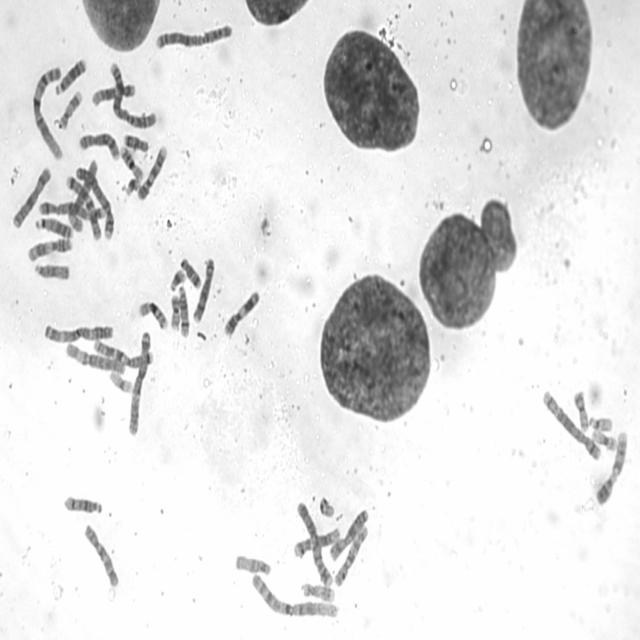A1: (249, 569, 340, 621), (29, 60, 65, 162)
A2: (108, 57, 158, 130), (152, 17, 235, 51)
A3: (126, 327, 153, 437), (42, 318, 115, 345)
B4: (295, 496, 335, 590), (72, 161, 116, 242)
B5: (540, 384, 602, 462), (35, 196, 107, 231)
C10: (82, 519, 120, 589), (332, 521, 370, 588)
C11: (222, 285, 261, 339), (25, 233, 75, 263)
C12: (291, 523, 341, 559), (90, 78, 137, 108)
C6: (68, 157, 100, 236), (63, 338, 127, 375)
C7: (67, 162, 103, 238), (91, 334, 155, 369)
C8: (190, 253, 216, 324), (76, 128, 122, 161)
C9: (593, 426, 629, 506), (135, 140, 169, 202)
D13: (52, 52, 88, 96), (34, 212, 74, 240)
D14: (61, 490, 104, 516), (176, 280, 191, 338)
D15: (233, 550, 272, 577), (32, 258, 71, 281)
E16: (136, 296, 170, 331), (118, 142, 144, 182)
E17: (56, 86, 84, 130), (298, 578, 336, 603)
E18: (178, 252, 203, 290), (122, 130, 150, 152)
F19: (589, 425, 618, 451), (107, 367, 134, 394)
F20: (571, 385, 591, 432), (168, 290, 181, 332)
G21: (168, 264, 186, 292), (123, 172, 142, 198)
G22: (587, 411, 614, 432), (317, 492, 336, 518)
X: (9, 161, 53, 230), (328, 504, 370, 562)
